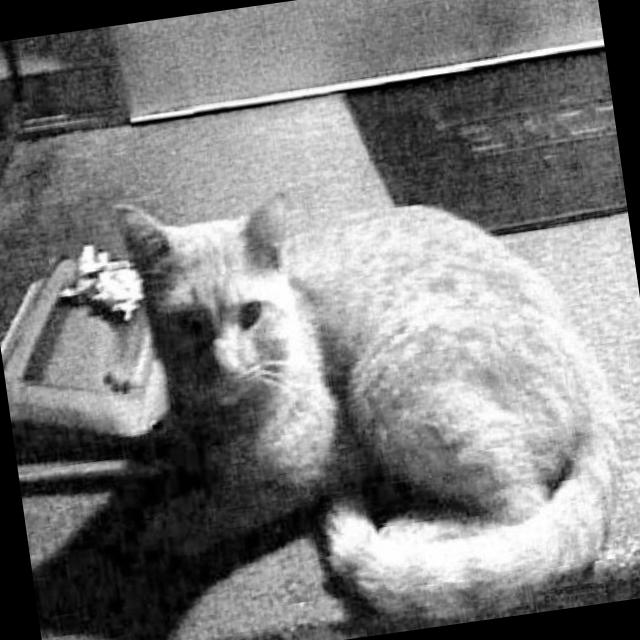Cat: (65, 135, 640, 640)
